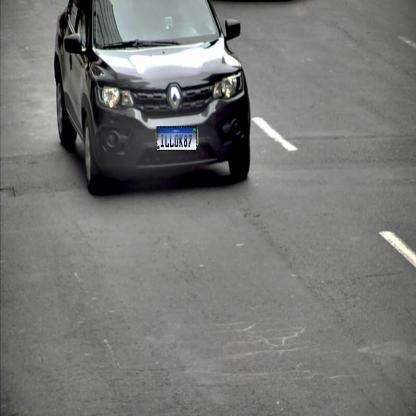PlacaM: (157, 126, 197, 151)
